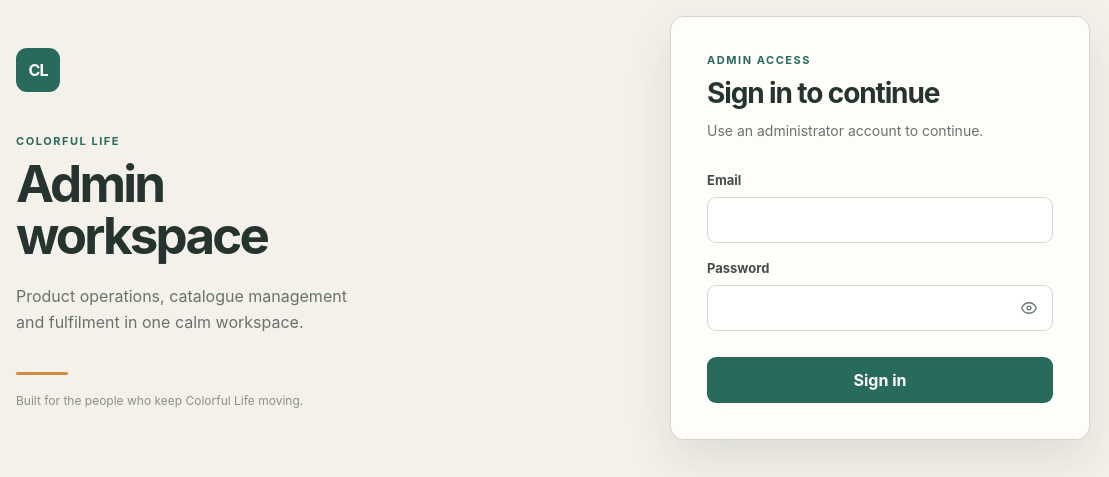
Test: App authentication flow › toggles password visibility without submitting or changing its value
This screenshot has width=1109, height=477.
Expected: the heading "Sign in to continue" is shown, left=707, top=76, right=939, bottom=110
Type "secret-value" into the password field labelled "Password" at point(880, 308), box left=707, top=285, right=1053, bottom=331
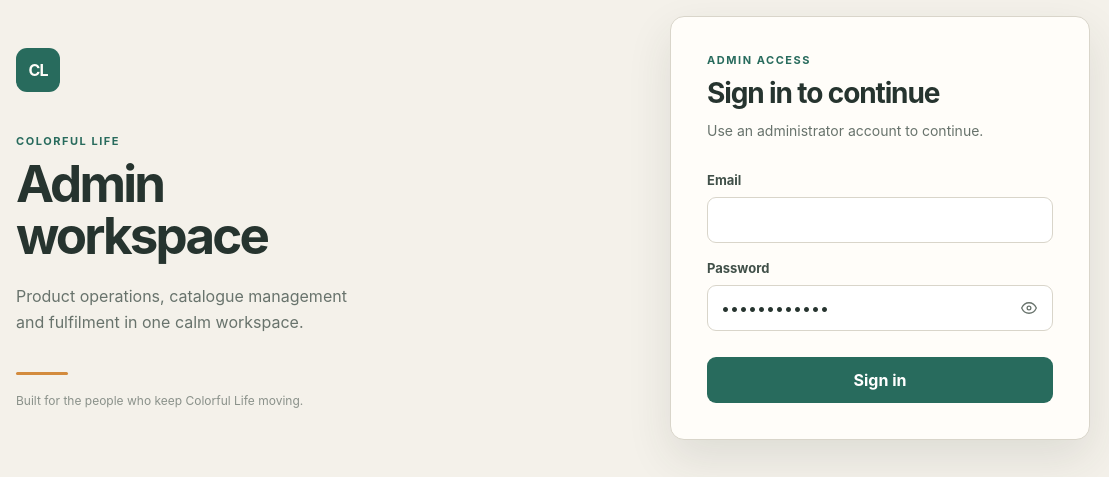
Click the button named "Show password" at point(1029, 308), box left=1012, top=291, right=1046, bottom=325
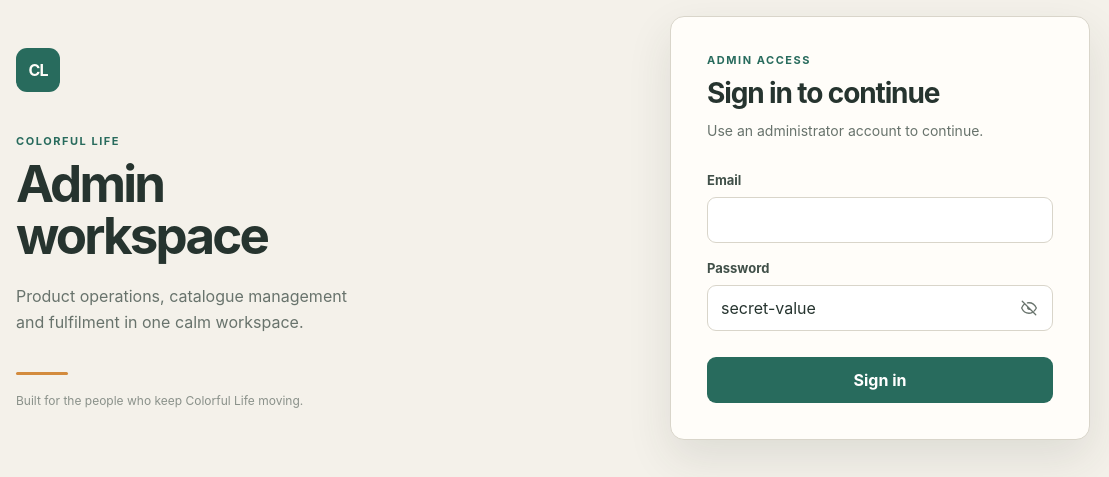
Expected: the field labelled "Password" shows its text, left=707, top=285, right=1053, bottom=331
Expected: the button named "Hide password" is shown
Click the button named "Hide password" at point(1029, 308), box left=1012, top=291, right=1046, bottom=325
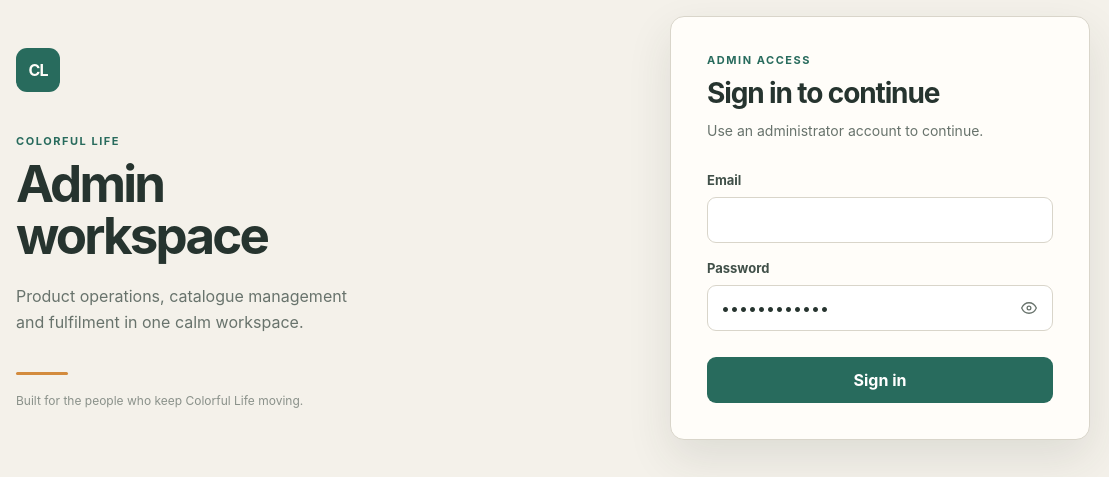
Expected: the password field labelled "Password" hides its text, left=707, top=285, right=1053, bottom=331
